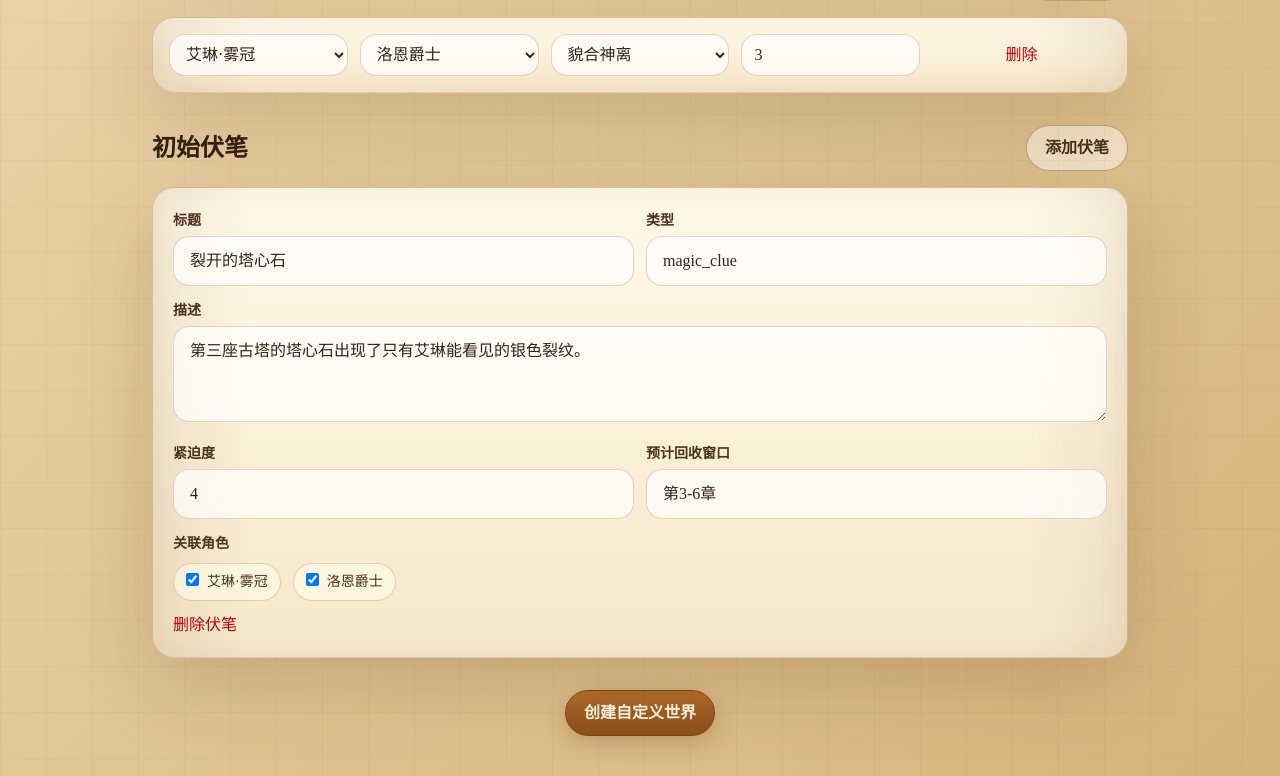
Test: WorldPage world creation › shows backend validation errors when custom world creation fails
The width and height of the screenshot is (1280, 776).
(page scrolled)
What coordinates should you click on to do the following:
click the button "创建自定义世界"
I would click on:
 (640, 713)
Its box is [565, 690, 715, 736].
(page scrolled)
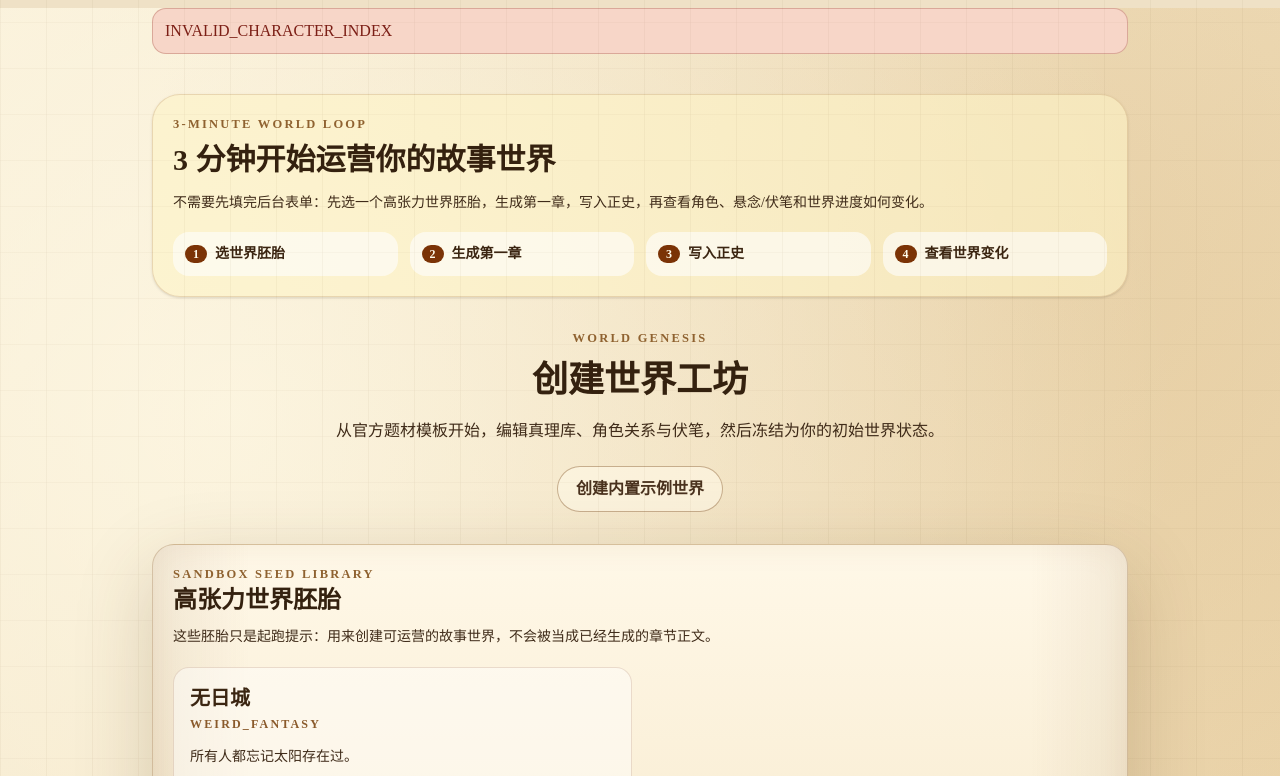
Expected: the message reads "INVALID_CHARACTER_INDEX", [165, 22, 392, 39]
